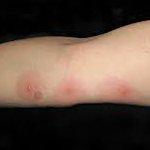Ants: (14, 71, 44, 104), (113, 81, 132, 100), (60, 83, 76, 100)
